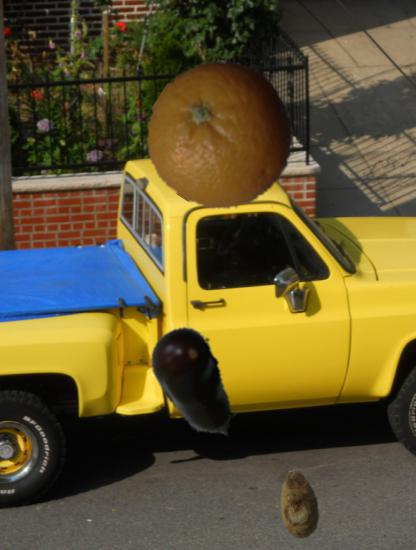Eggplant: (134, 323, 258, 447)
Ginger: (264, 470, 333, 539)
Orange: (148, 61, 297, 210)
